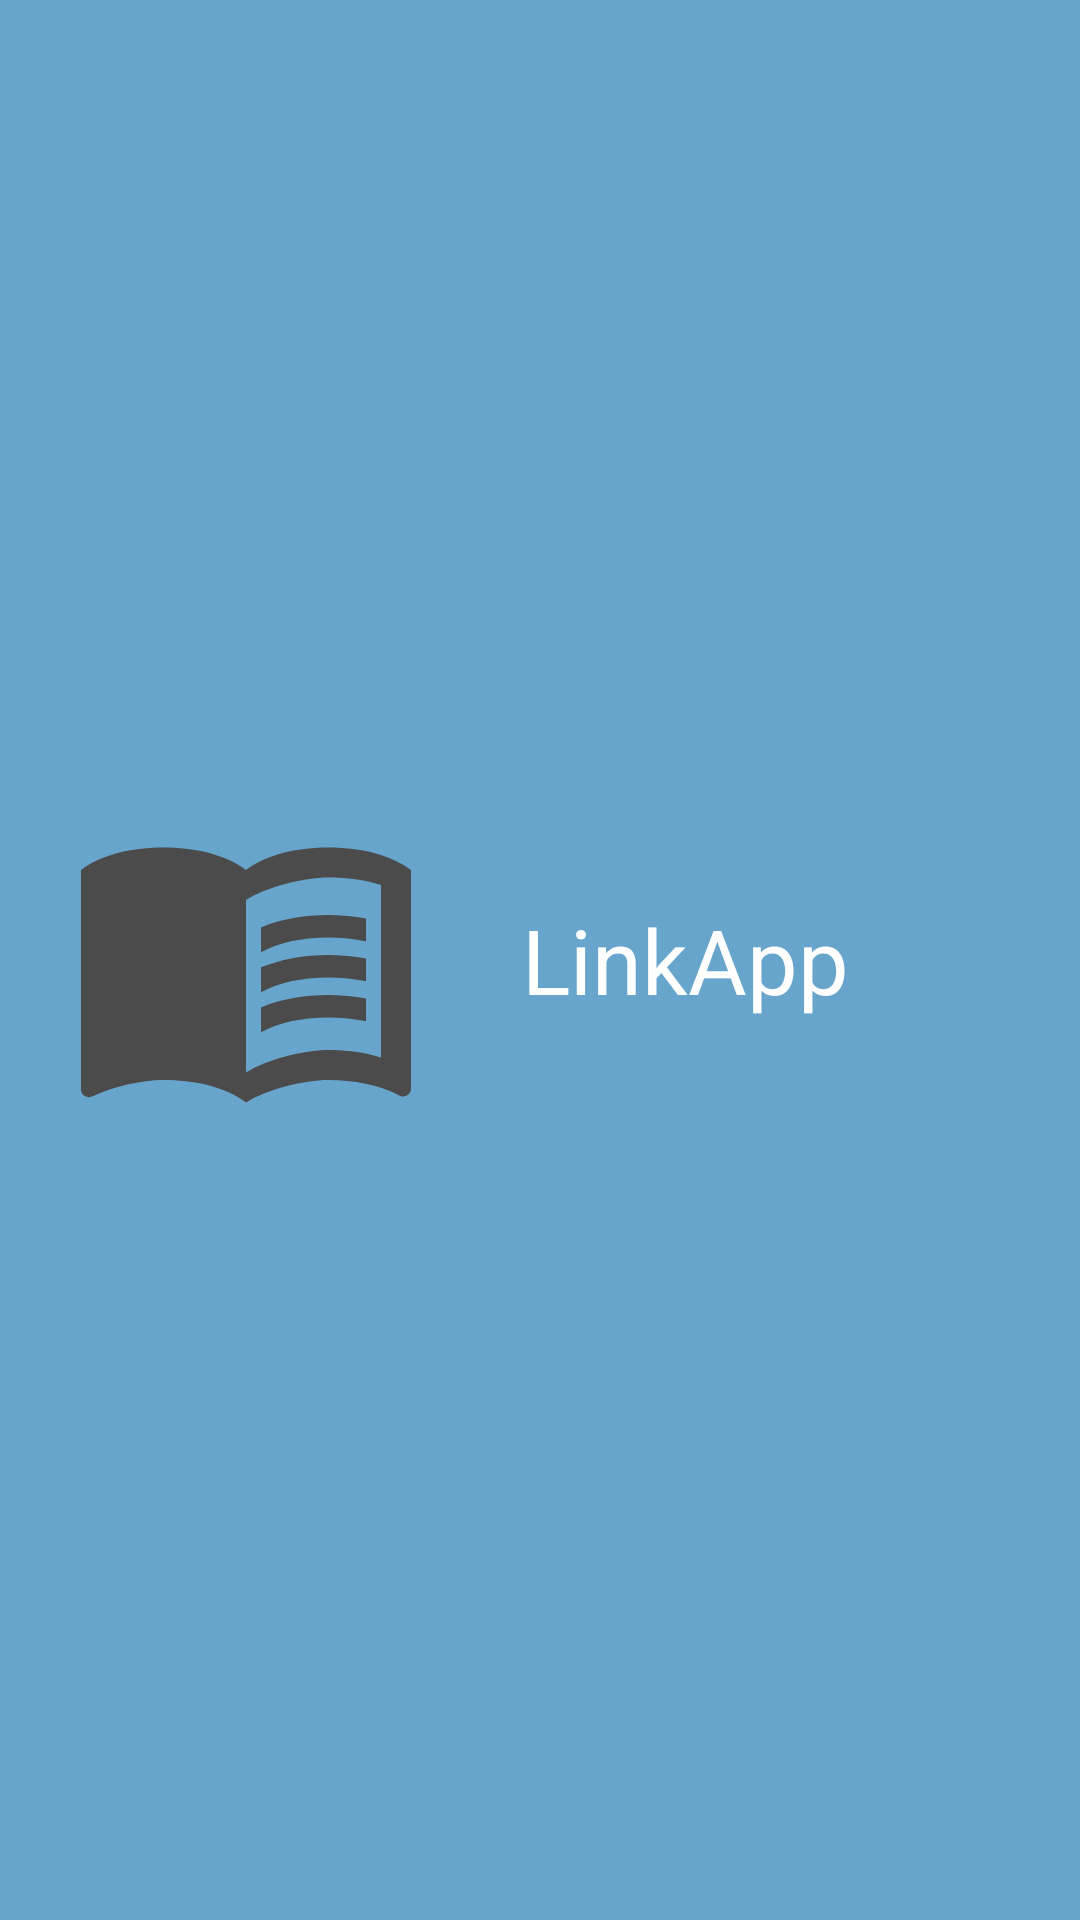

Named icons in this screenshot (1080 × 1920) and their bounding boxes, (x1, y1, x2, y2):
book: (81, 847, 411, 1103)
